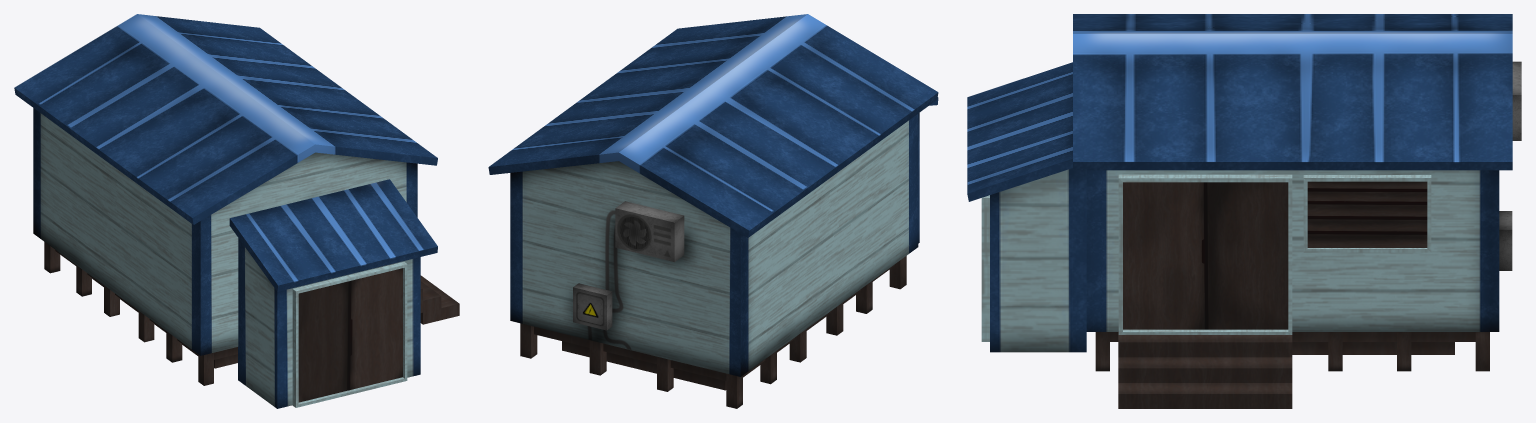
File: house3.glb
The picture shows the model from 3 angles, left to right: view 1: azimuth 30°, elevation 25°; view 2: azimuth 150°, elevation 25°; view 3: azimuth 270°, elevation 25°; orthographic projection. The views are drawn at different scales.
Visible parts, largest first — view 1: Cube, Cube.001, Cube.002, Cube.003; view 2: Cube, Cube.001, Cube.003, Cube.004; view 3: Cube, Cube.001, Cube.002, Cube.003, Cube.004.
Part boxes in pixels (bbox=[...]): Cube: bbox=[33, 108, 459, 408]; Cube.001: bbox=[14, 14, 437, 224]; Cube.002: bbox=[229, 179, 437, 291]; Cube.003: bbox=[44, 242, 237, 385]; Cube: bbox=[510, 113, 919, 376]; Cube.001: bbox=[488, 14, 938, 237]; Cube.003: bbox=[520, 256, 906, 408]; Cube.004: bbox=[573, 201, 684, 330]; Cube: bbox=[981, 168, 1499, 408]; Cube.001: bbox=[1073, 14, 1512, 170]; Cube.002: bbox=[967, 62, 1072, 201]; Cube.003: bbox=[1095, 332, 1489, 371]; Cube.004: bbox=[1499, 61, 1521, 270].
Size of the model in its own units: 5.92 by 4.44 by 8.06.
Materials: 2 (2 with a texture image).
